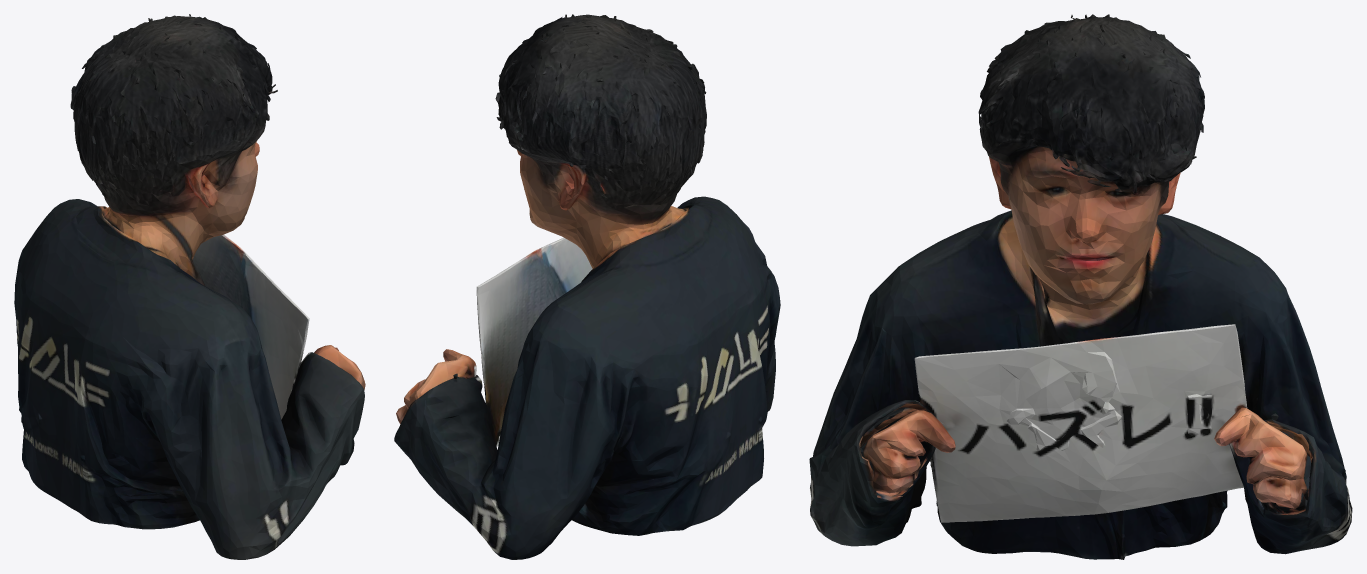
The model's file is koba.glb.
The picture shows the model from 3 angles, left to right: view 1: azimuth 30°, elevation 25°; view 2: azimuth 150°, elevation 25°; view 3: azimuth 270°, elevation 25°; orthographic projection. The views are drawn at different scales.
Parts seen in each view (by area): view 1: tripo_node_c4e5baf7-3da3-4dee-af4a-a3a962ae6525; view 2: tripo_node_c4e5baf7-3da3-4dee-af4a-a3a962ae6525; view 3: tripo_node_c4e5baf7-3da3-4dee-af4a-a3a962ae6525.
Part boxes in pixels (x1,y1,x2,y2): tripo_node_c4e5baf7-3da3-4dee-af4a-a3a962ae6525: (14, 14, 365, 559); tripo_node_c4e5baf7-3da3-4dee-af4a-a3a962ae6525: (394, 14, 780, 559); tripo_node_c4e5baf7-3da3-4dee-af4a-a3a962ae6525: (809, 14, 1352, 559).
Bounding box in the file's own units: 0.5884 × 0.9997 × 0.9446.
Materials: 1 (1 with a texture image).
